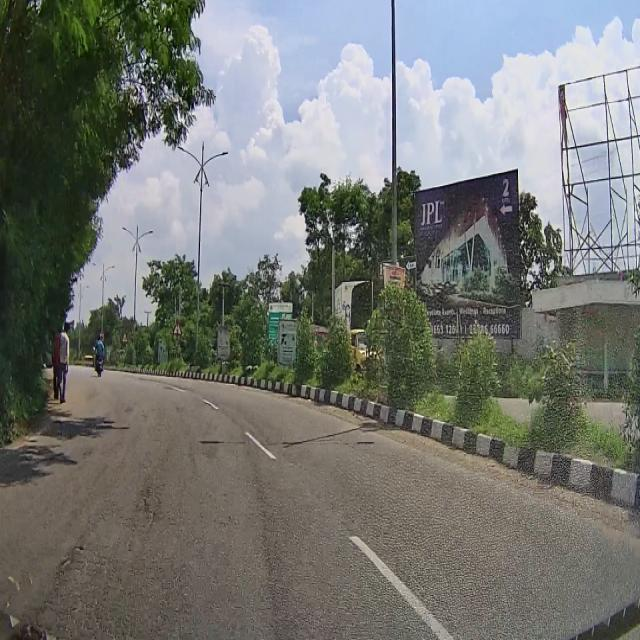person ahead at: (54, 324, 76, 406)
